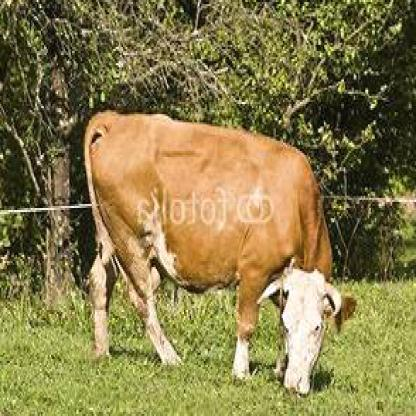cow: (80, 102, 343, 402)
